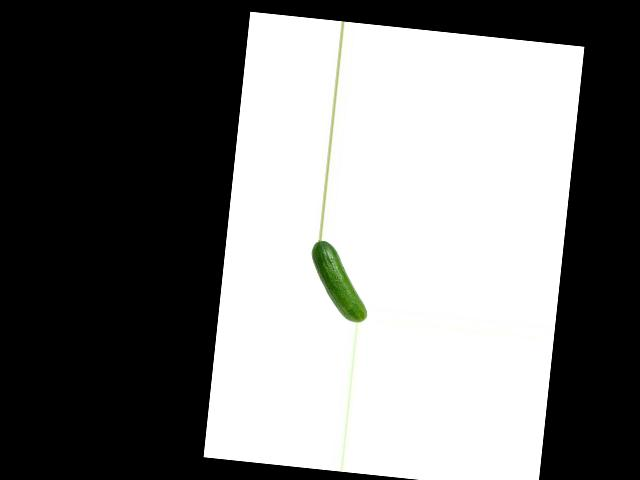cucumber: (304, 239, 373, 323)
